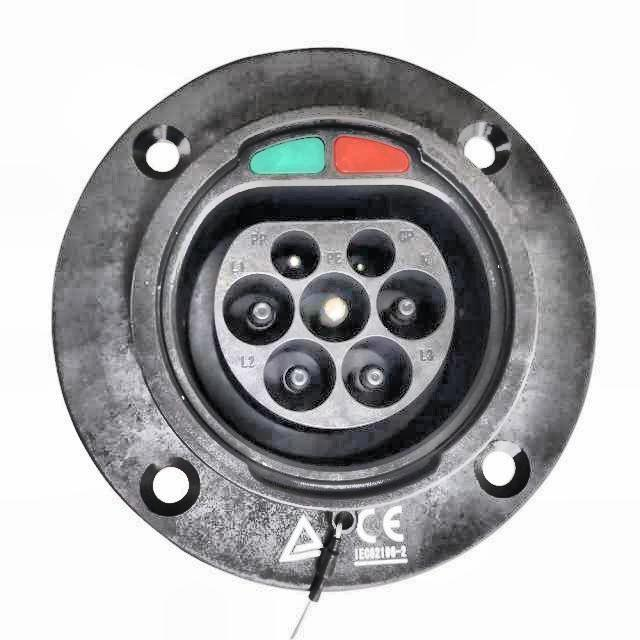inlet: (214, 220, 455, 430)
inlet-above-left: (270, 230, 322, 281)
inlet-above-right: (346, 229, 396, 278)
inlet-below-left: (265, 339, 335, 413)
inlet-below-right: (342, 336, 413, 409)
inlet-center: (299, 272, 371, 344)
inlet-center-left: (224, 273, 294, 348)
inlet-center-right: (376, 267, 448, 341)
